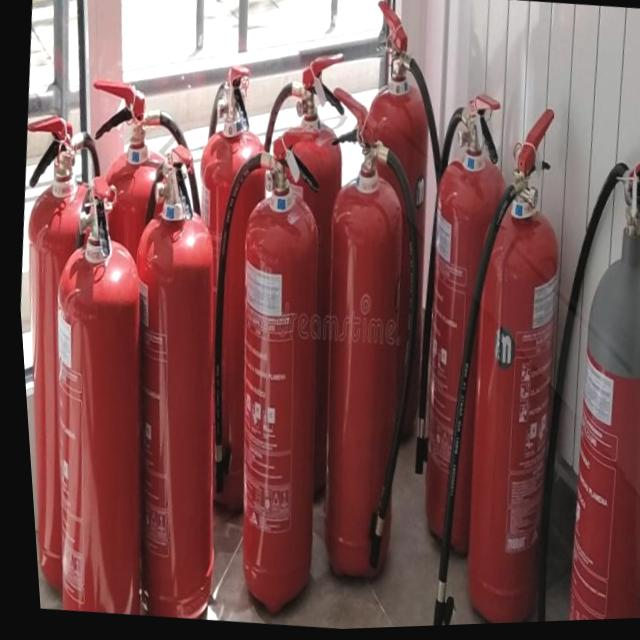FireExtinguisher: (393, 98, 595, 629), (35, 63, 236, 590), (166, 119, 356, 631), (276, 80, 455, 600), (82, 131, 257, 624), (374, 86, 538, 567), (9, 166, 180, 618), (319, 0, 483, 467), (216, 44, 372, 520), (152, 57, 302, 531), (495, 147, 640, 626), (6, 105, 141, 614)
